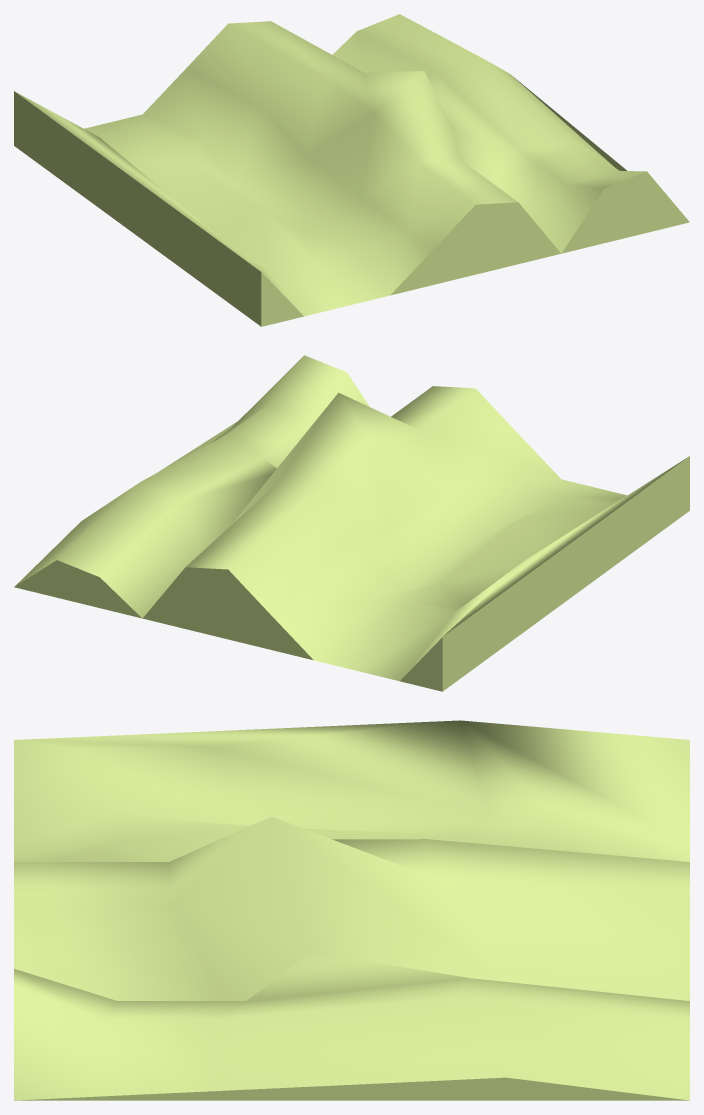
The model's file is PECO_Stage.FBX.
3 views of the same model, one above another, from view 1: azimuth 30°, elevation 25°; view 2: azimuth 150°, elevation 25°; view 3: azimuth 270°, elevation 25° (orthographic). The views are drawn at different scales.
Visible parts, largest first — view 1: Box001; view 2: Box001; view 3: Box001.
Boxes of the visible parts, box(x1,y1,x2,y2) form: Box001: box(14, 14, 689, 326); Box001: box(14, 355, 689, 691); Box001: box(14, 720, 689, 1100).
Size of the model in its own units: 1327 by 1327 by 368.
Materials: 1 (1 with a texture image).
